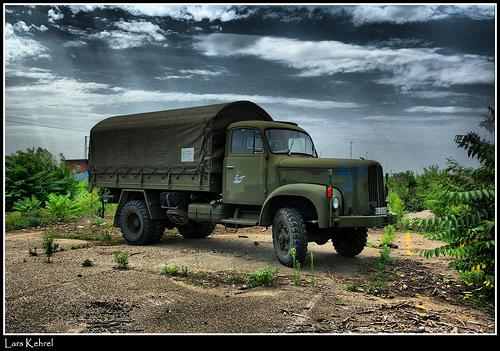truck: (86, 100, 399, 269)
